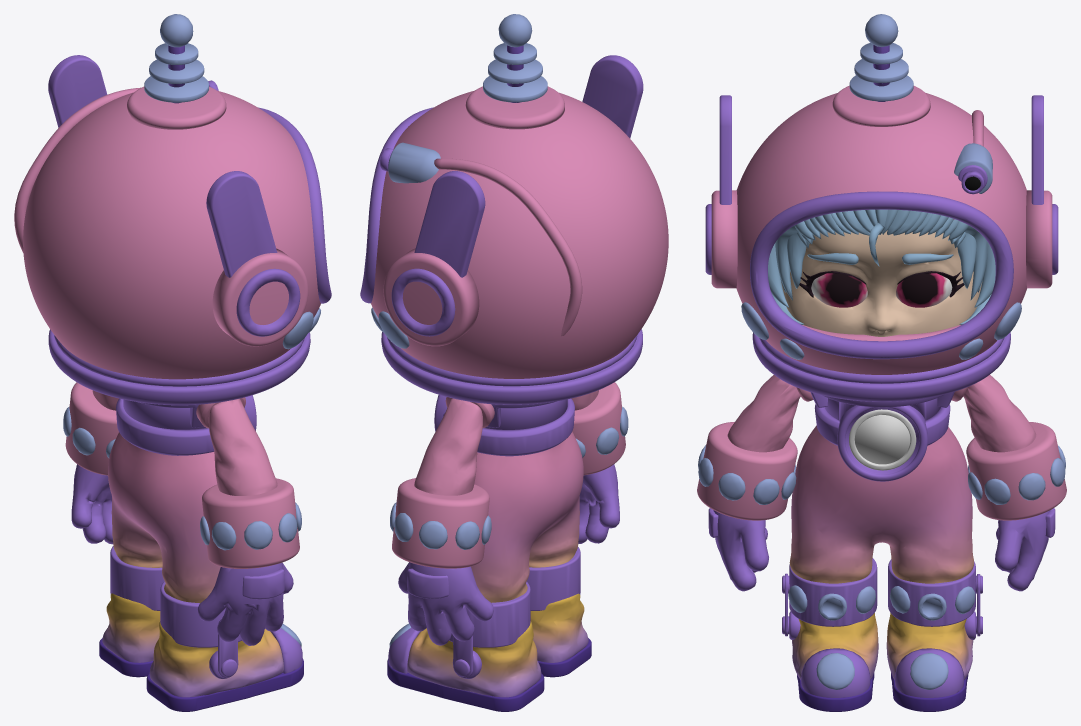
Rendered from soshie.glb.
3 renders of one model, left to right at view 1: azimuth 30°, elevation 25°; view 2: azimuth 150°, elevation 25°; view 3: azimuth 270°, elevation 25°, orthographic.
Parts seen in each view (by area): view 1: Head, Body, ArmR, ArmL; view 2: Head, Body, ArmL, ArmR; view 3: Head, Body, ArmR, ArmL.
Part boxes in pixels (x1,y1,x2,y2): Head: [14, 14, 331, 405]; Body: [99, 395, 303, 711]; ArmR: [196, 397, 301, 645]; ArmL: [63, 382, 118, 544]; Head: [360, 14, 668, 404]; Body: [387, 395, 591, 711]; ArmL: [390, 397, 494, 645]; ArmR: [571, 382, 628, 543]; Head: [705, 14, 1058, 401]; Body: [782, 391, 982, 711]; ArmR: [697, 375, 813, 591]; ArmL: [951, 375, 1066, 591].
Bounding box in the file's own units: 0.0584 × 0.1394 × 0.072.
